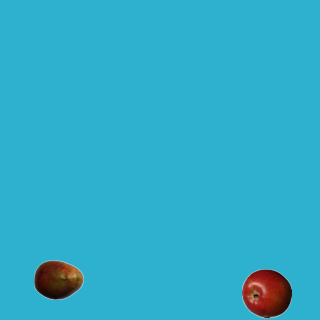Apple Braeburn: (241, 268, 291, 318)
Mango Red: (33, 254, 83, 304)
